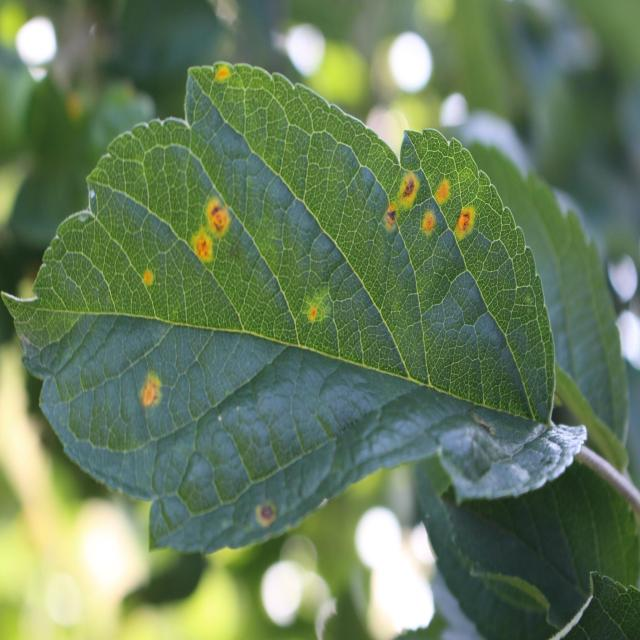Rust: (203, 198, 234, 242), (394, 168, 421, 215), (304, 284, 330, 332), (449, 205, 478, 246), (138, 368, 164, 413), (189, 230, 216, 269), (256, 494, 279, 530), (432, 176, 454, 212), (421, 206, 437, 242), (212, 57, 229, 90), (383, 202, 398, 238), (140, 264, 159, 292)
